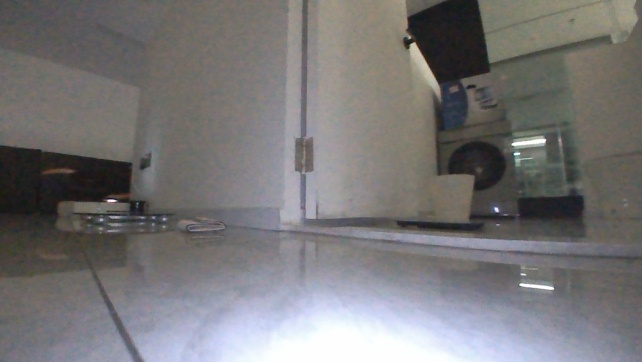door_anno: (280, 0, 420, 220)
toilet: (580, 145, 641, 222)
washing_machine: (435, 117, 519, 219)
weight_scale: (69, 209, 177, 225), (393, 216, 484, 232)
